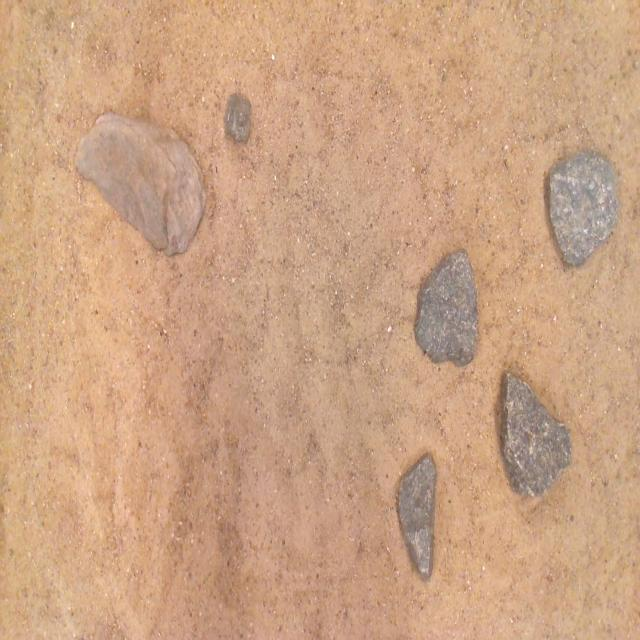rock: (76, 113, 205, 254), (501, 373, 571, 495), (549, 151, 619, 265), (415, 251, 477, 366), (398, 455, 435, 580), (224, 94, 251, 142)
